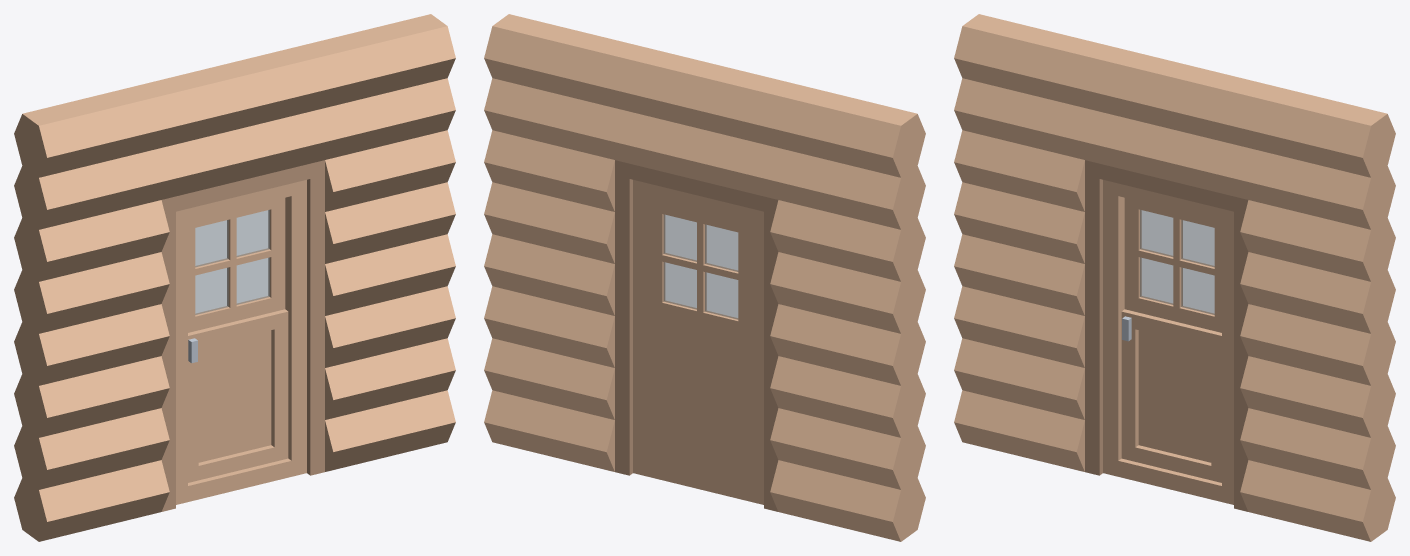
File: cabinDoor.glb
3 renders of one model, left to right at view 1: azimuth 30°, elevation 25°; view 2: azimuth 150°, elevation 25°; view 3: azimuth 330°, elevation 25°, orthographic.
Visible parts, largest first — view 1: cabinDoor(Clone), door, frame; view 2: cabinDoor(Clone), door, frame; view 3: cabinDoor(Clone), door, frame.
Part boxes in pixels (x1,y1,x2,y2): cabinDoor(Clone): (14,14,455,541); door: (176,180,306,504); frame: (161,160,324,511); cabinDoor(Clone): (484,14,925,541); door: (633,180,763,504); frame: (615,160,778,511); cabinDoor(Clone): (954,14,1395,541); door: (1103,180,1233,504); frame: (1085,160,1248,511).
Bounding box in the file's own units: 1 × 0.9727 × 0.1404.
